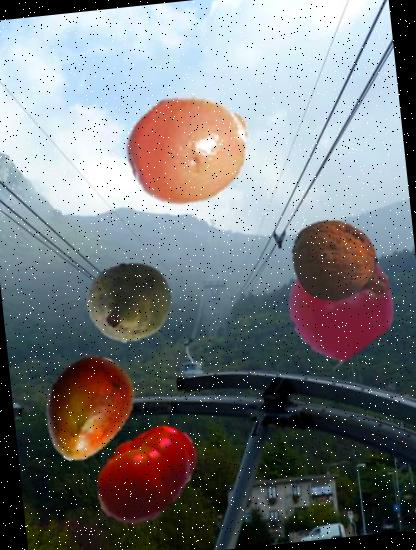Beetroot: (75, 252, 178, 355)
Cauliflower: (128, 433, 196, 501)
Mango: (27, 349, 148, 470)
Redcurrant: (283, 245, 398, 362)
Tangelo: (121, 79, 258, 217)
Tomato: (84, 412, 209, 537)
Walnut: (286, 212, 382, 309)
